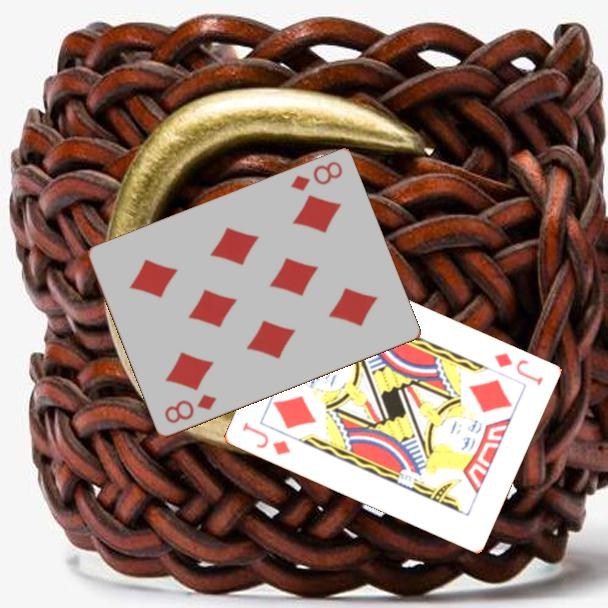d08: (161, 391, 220, 427), (287, 158, 345, 194)
d11: (490, 349, 546, 389), (238, 419, 293, 459)
